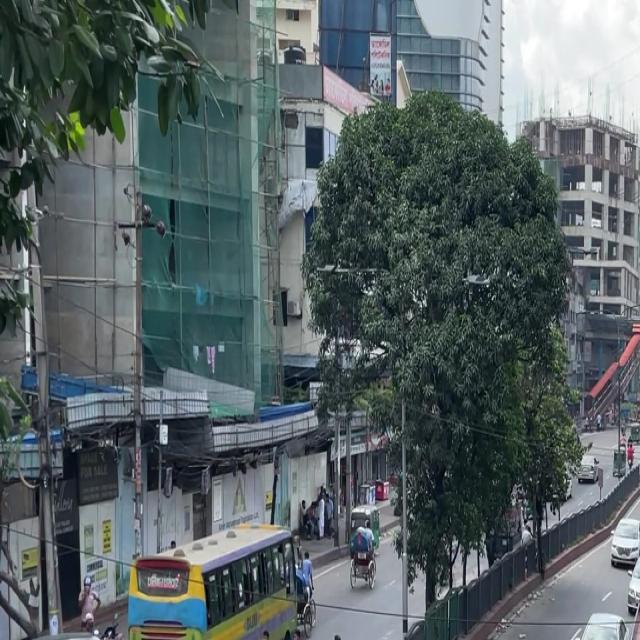bus: (125, 524, 298, 640), (607, 593, 640, 640)
car: (606, 507, 640, 574), (569, 604, 625, 640), (624, 540, 640, 616)
